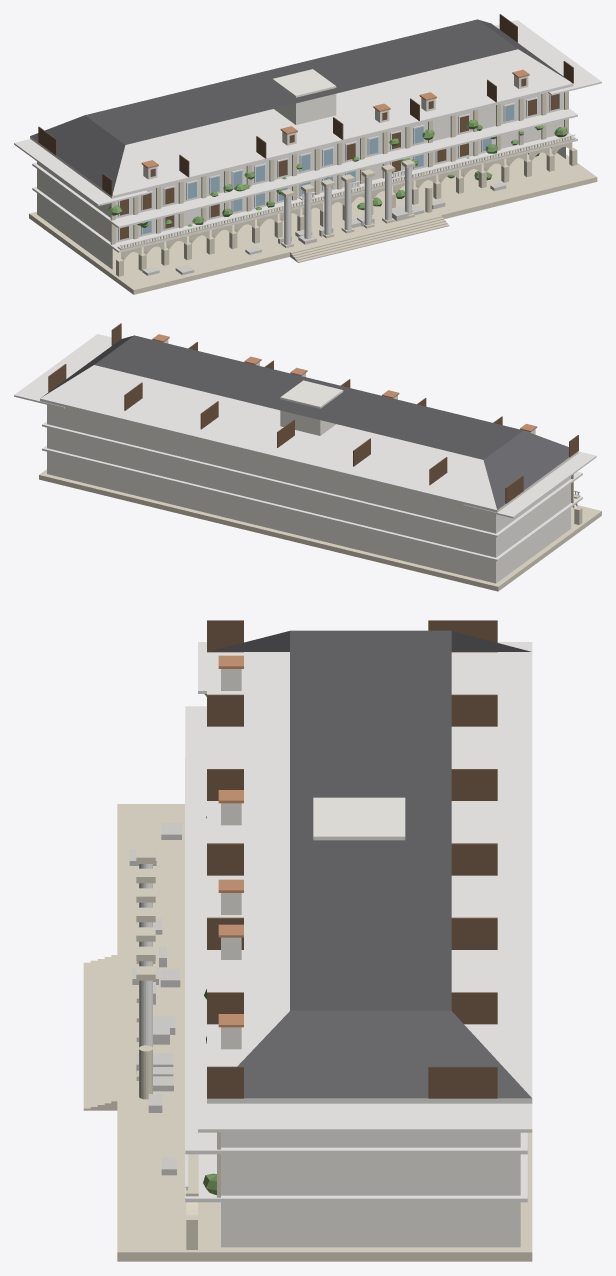
Rendered from E1-5_grande_hotel_ruina.fbx.
3 views of the same model, one above another, from view 1: azimuth 30°, elevation 25°; view 2: azimuth 150°, elevation 25°; view 3: azimuth 270°, elevation 25° (orthographic). The views are drawn at different scales.
Parts seen in each view (by area): view 1: E1-5_grande_hotel_ruina; view 2: E1-5_grande_hotel_ruina; view 3: E1-5_grande_hotel_ruina.
Part boxes in pixels (left/top/right/bottom): E1-5_grande_hotel_ruina: left=14, top=14, right=601, bottom=294; E1-5_grande_hotel_ruina: left=14, top=323, right=601, bottom=591; E1-5_grande_hotel_ruina: left=83, top=620, right=532, bottom=1261.
Bounding box in the file's own units: 100 × 21.11 × 38.9.
